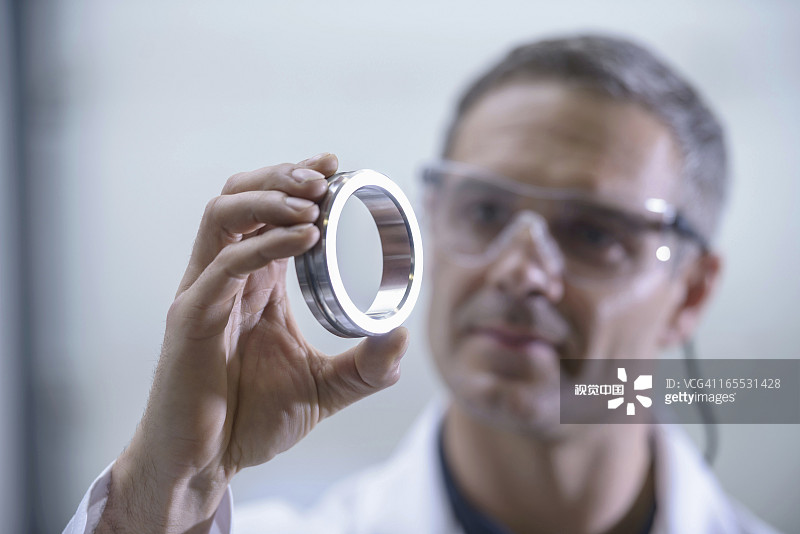no-phone: (115, 126, 425, 519)
